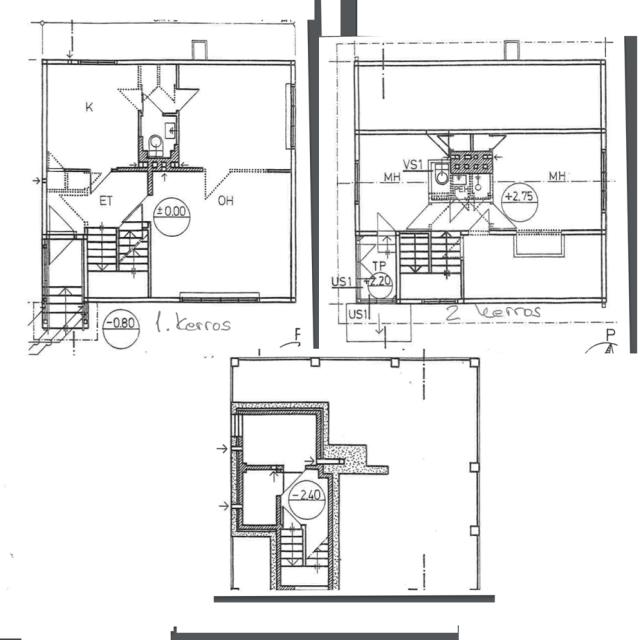door: (28, 221, 79, 270), (157, 73, 202, 121), (112, 200, 148, 241), (202, 165, 239, 204), (342, 230, 379, 268), (45, 201, 78, 240), (400, 201, 435, 234), (112, 84, 145, 118), (477, 123, 510, 155), (276, 502, 308, 533), (424, 132, 455, 159), (375, 208, 400, 235), (447, 200, 474, 225), (465, 207, 491, 232), (354, 258, 379, 283), (46, 150, 66, 174)
window: (174, 292, 266, 308), (597, 145, 615, 217), (287, 75, 299, 158), (74, 56, 119, 70), (352, 155, 364, 202), (423, 296, 459, 309)
